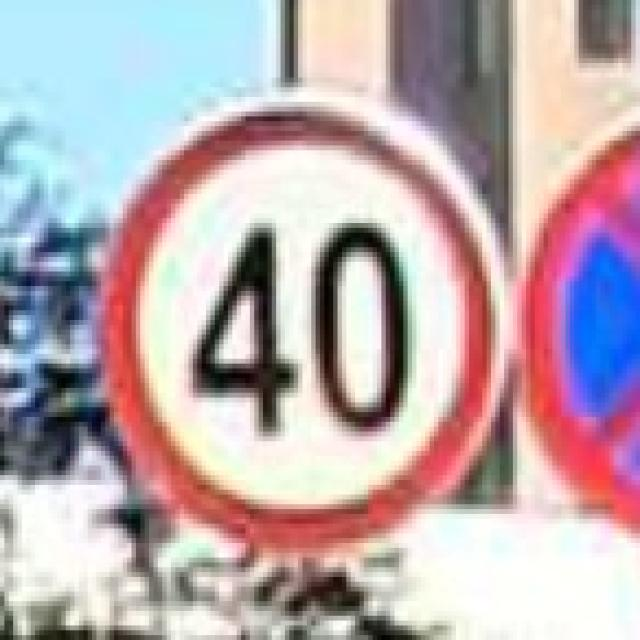Speed Limit -40-: (184, 213, 416, 446)
